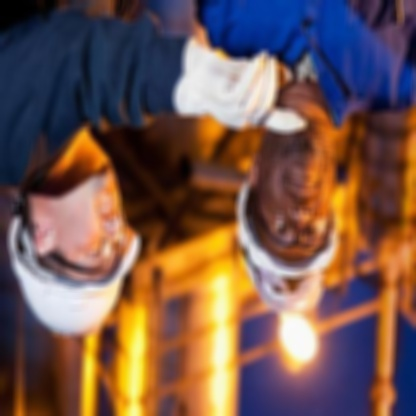white: (4, 219, 147, 341)
